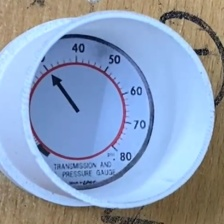gauge: (32, 36, 154, 188)
